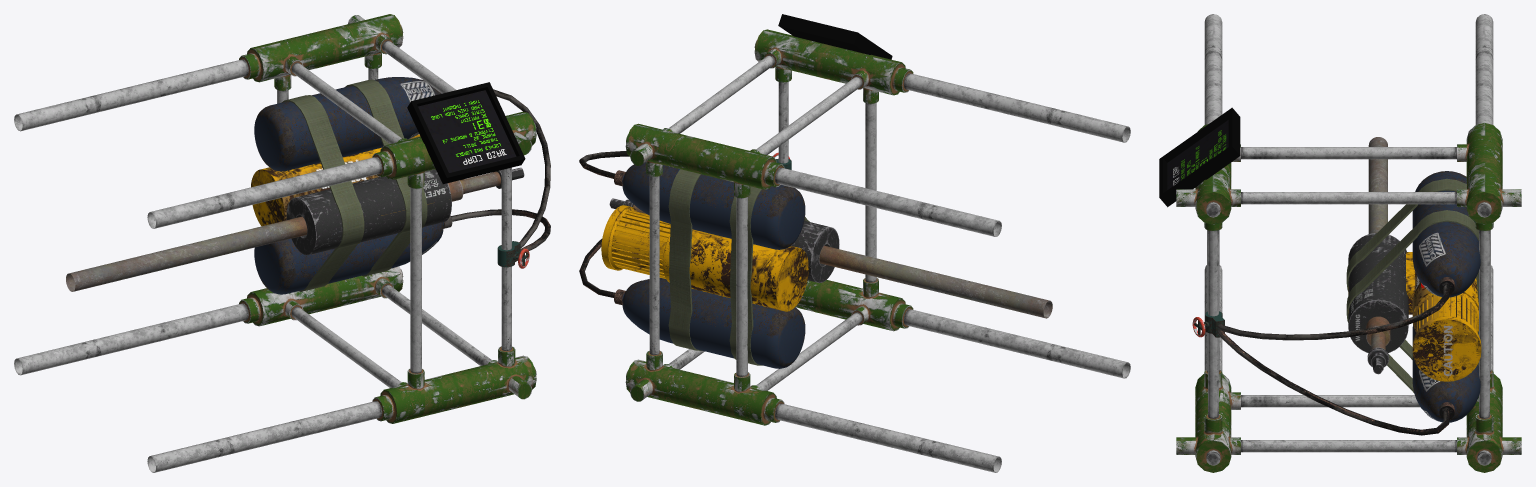
File: thermal_drill.glb
3 views of the same model, side by side, from view 1: azimuth 30°, elevation 25°; view 2: azimuth 150°, elevation 25°; view 3: azimuth 270°, elevation 25° (orthographic). The views are drawn at different scales.
Visible parts, largest first — view 1: bazq_tutorial; view 2: bazq_tutorial; view 3: bazq_tutorial.
Part boxes in pixels (<box>): bazq_tutorial: <box>14,14,550,472</box>; bazq_tutorial: <box>579,14,1130,472</box>; bazq_tutorial: <box>1159,14,1521,472</box>.
Size of the model in its own units: 3.69 by 2.31 by 2.43.
3 materials, 3 textured.
